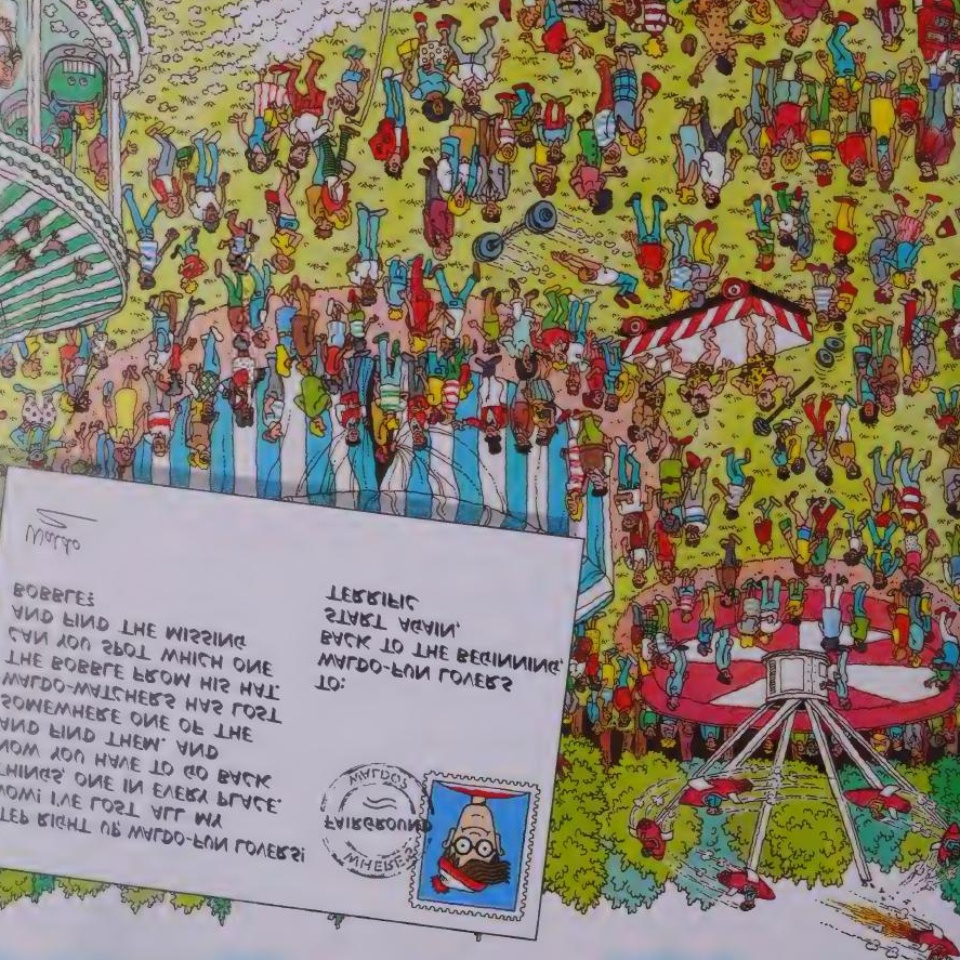waldo: (431, 787, 529, 894)
